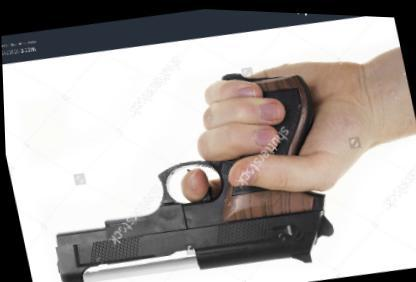pistol: (19, 49, 349, 279)
